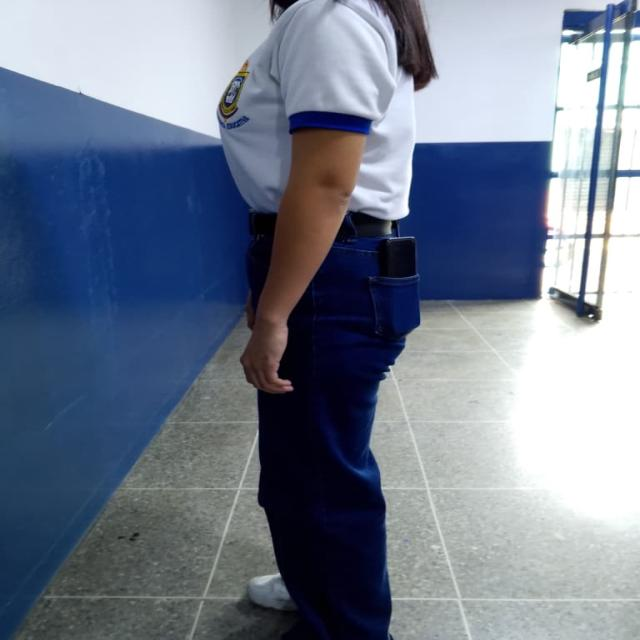pantalon_oscuro: (246, 233, 421, 640)
uniforme_superior: (217, 0, 416, 221)
